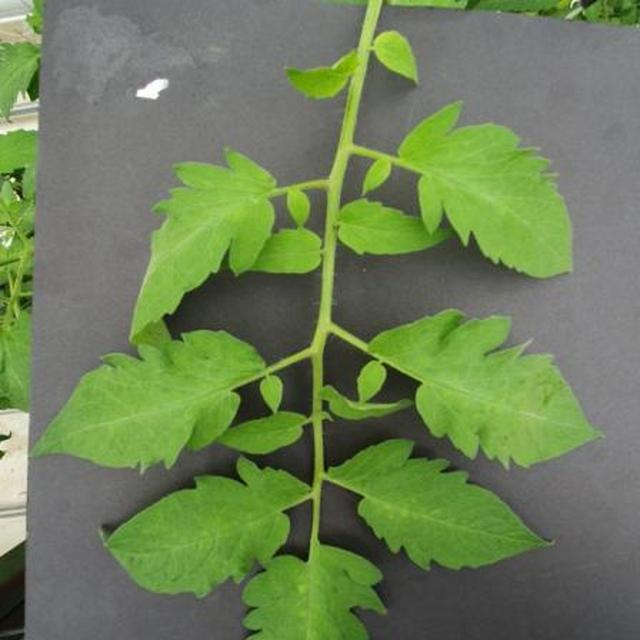Healthy Leaf: (135, 64, 640, 640)
